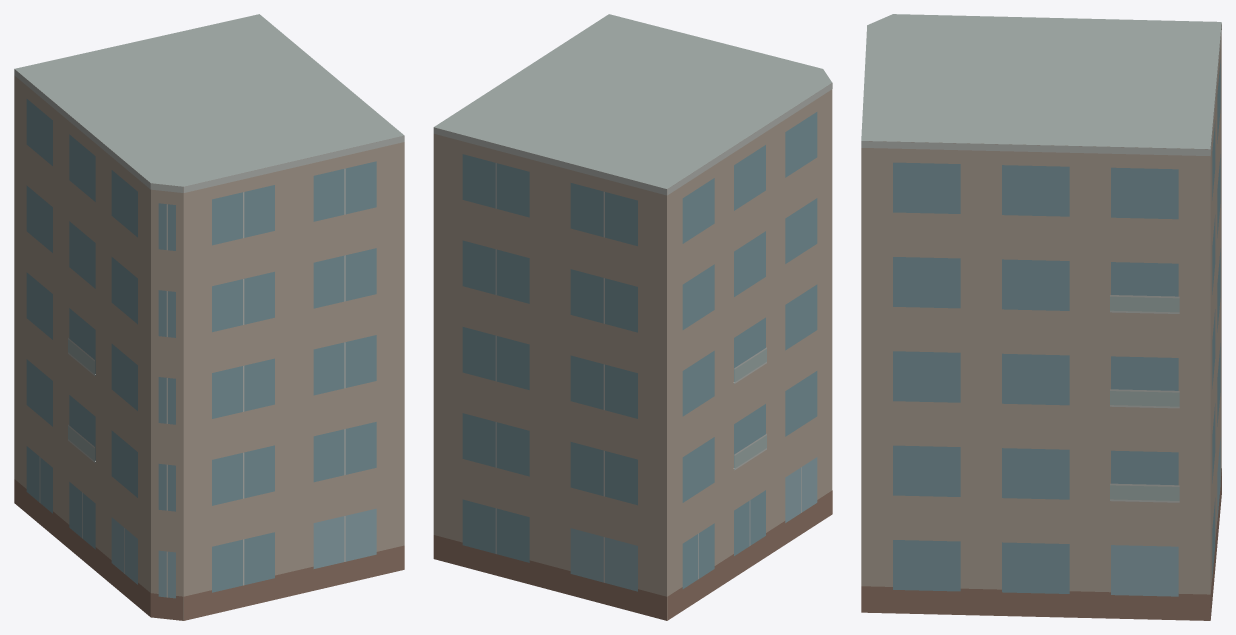
The model's file is survey-upis-32832443.glb.
3 renders of one model, left to right at view 1: azimuth 30°, elevation 25°; view 2: azimuth 150°, elevation 25°; view 3: azimuth 270°, elevation 25°, orthographic. The views are drawn at different scales.
Parts seen in each view (by area): view 1: survey-upis-32832443.tmp; view 2: survey-upis-32832443.tmp; view 3: survey-upis-32832443.tmp.
Part boxes in pixels (left/top/right/bottom): survey-upis-32832443.tmp: left=14, top=14, right=404, bottom=620; survey-upis-32832443.tmp: left=433, top=14, right=832, bottom=620; survey-upis-32832443.tmp: left=861, top=14, right=1221, bottom=620.
Size of the model in its own units: 10.12 by 16.45 by 11.41.
